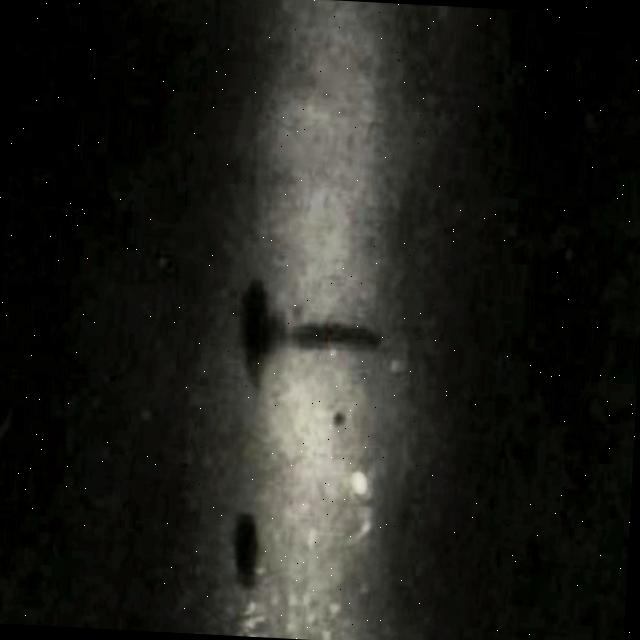Pore: (324, 402, 350, 428)
Slag: (220, 260, 396, 402), (210, 489, 282, 606)
